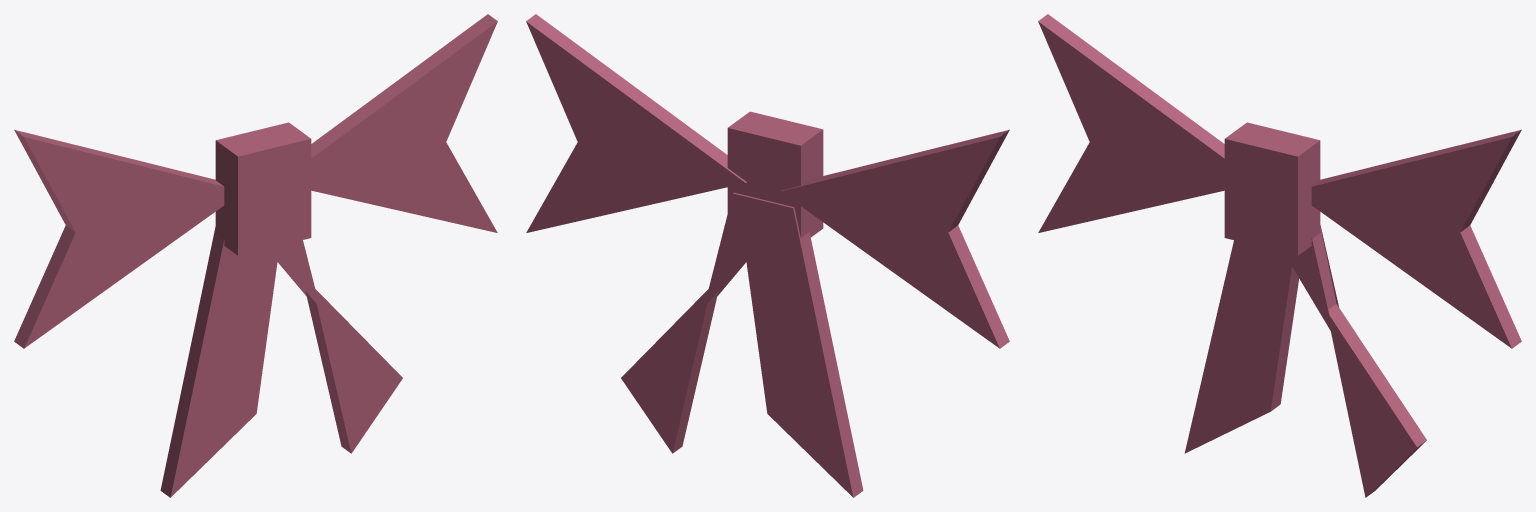
Rendered from ACC_Bow_Burgundy.glb.
3 renders of one model, left to right at view 1: azimuth 30°, elevation 25°; view 2: azimuth 150°, elevation 25°; view 3: azimuth 330°, elevation 25°, orthographic.
Visible parts, largest first — view 1: ACC_Bow_Burgundy_1, ACC_Bow_Burgundy_2, ACC_Bow_Burgundy_3, ACC_Bow_Burgundy_5, ACC_Bow_Burgundy_4; view 2: ACC_Bow_Burgundy_1, ACC_Bow_Burgundy_2, ACC_Bow_Burgundy_3, ACC_Bow_Burgundy_4, ACC_Bow_Burgundy_5; view 3: ACC_Bow_Burgundy_2, ACC_Bow_Burgundy_1, ACC_Bow_Burgundy_3, ACC_Bow_Burgundy_5, ACC_Bow_Burgundy_4.
Boxes of the visible parts, x1,y1,x2,y2 form: ACC_Bow_Burgundy_1: (14, 129, 224, 348); ACC_Bow_Burgundy_2: (311, 14, 497, 232); ACC_Bow_Burgundy_3: (160, 227, 277, 497); ACC_Bow_Burgundy_5: (215, 122, 311, 255); ACC_Bow_Burgundy_4: (270, 240, 402, 453); ACC_Bow_Burgundy_1: (780, 129, 1009, 348); ACC_Bow_Burgundy_2: (526, 14, 746, 232); ACC_Bow_Burgundy_3: (737, 193, 863, 497); ACC_Bow_Burgundy_4: (621, 192, 788, 453); ACC_Bow_Burgundy_5: (727, 111, 823, 237); ACC_Bow_Burgundy_2: (1311, 129, 1521, 348); ACC_Bow_Burgundy_1: (1038, 14, 1224, 232); ACC_Bow_Burgundy_3: (1184, 240, 1299, 453); ACC_Bow_Burgundy_5: (1224, 122, 1320, 255); ACC_Bow_Burgundy_4: (1292, 225, 1426, 497).
Size of the model in its own units: 0.11 by 0.088 by 0.0095.
